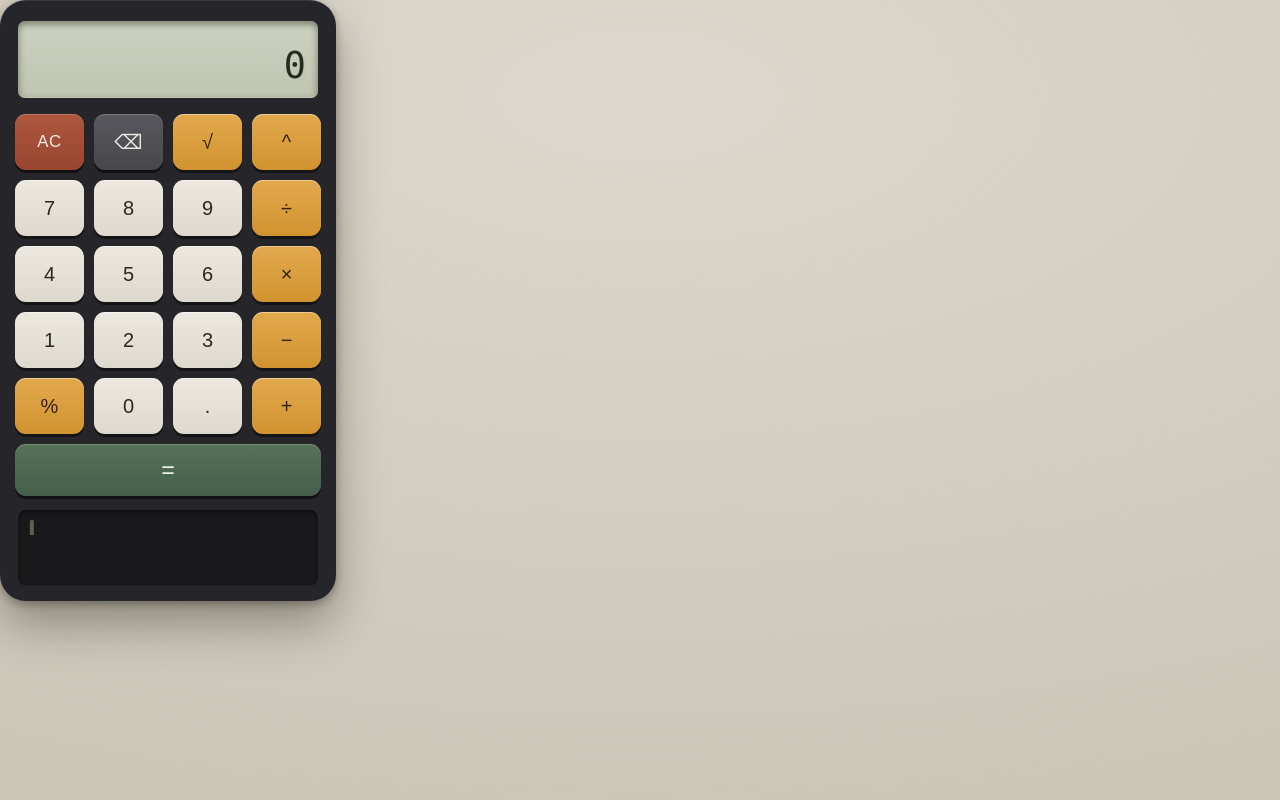
Calculator › shrinks long values instead of wrapping
Step 1. Click the button "8" → (128,208), box [94,180,163,236]
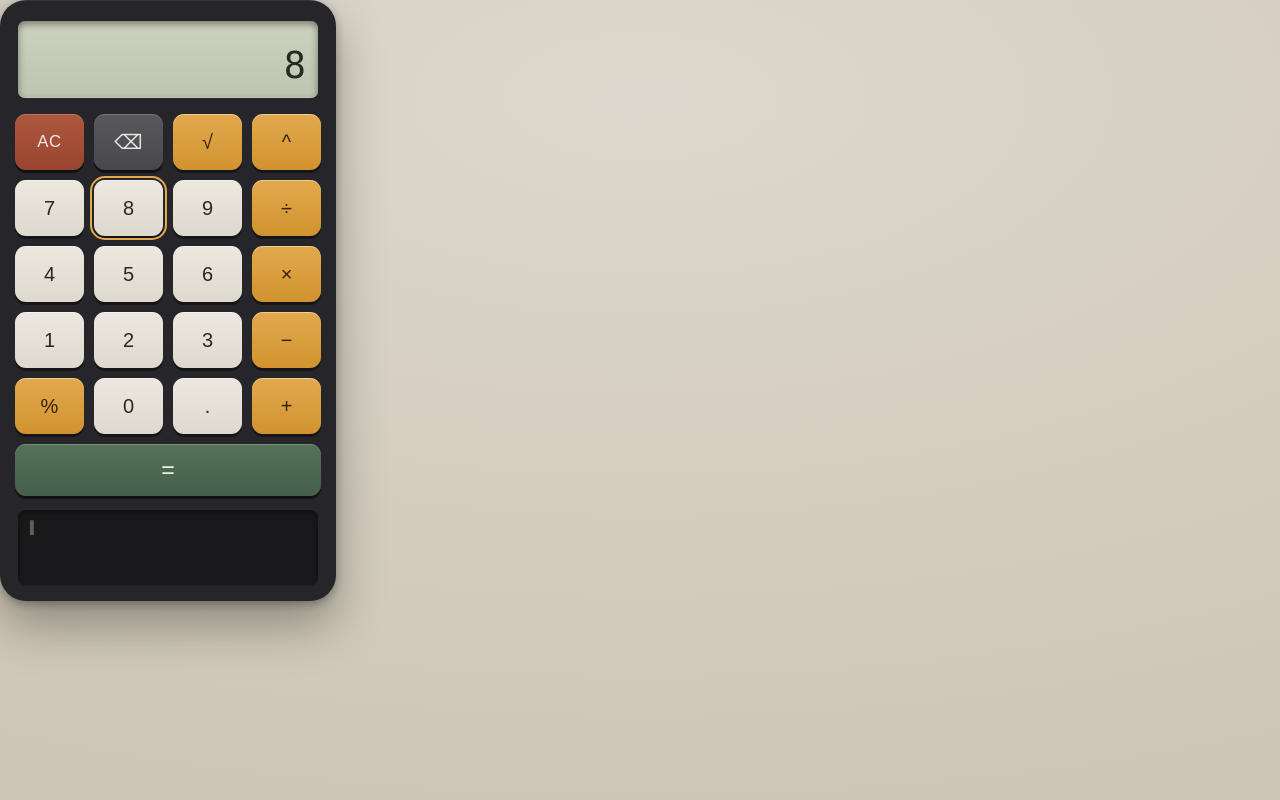
Step 2. Click the button named "sqrt" → (208,142), box [173,114,242,170]
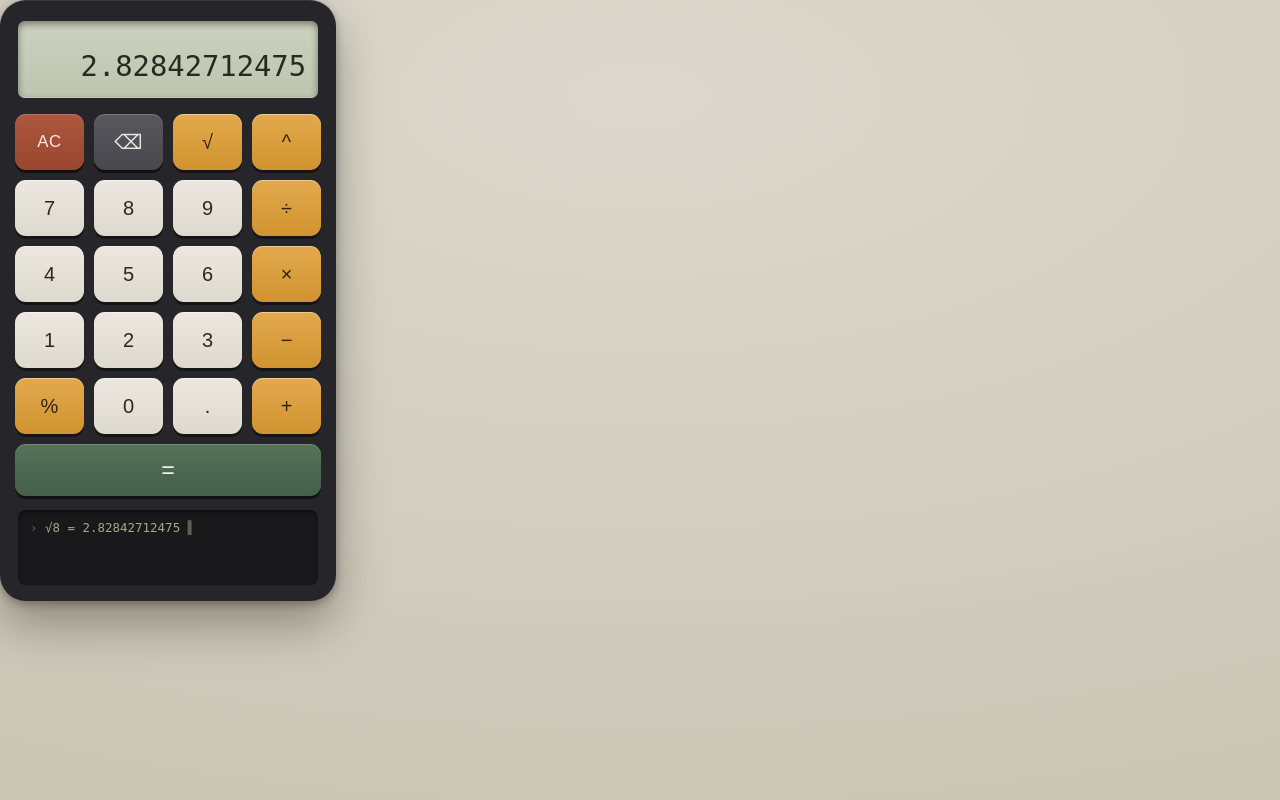
Expected: the text "2.82842712475" is shown, [81,49,306,83]
